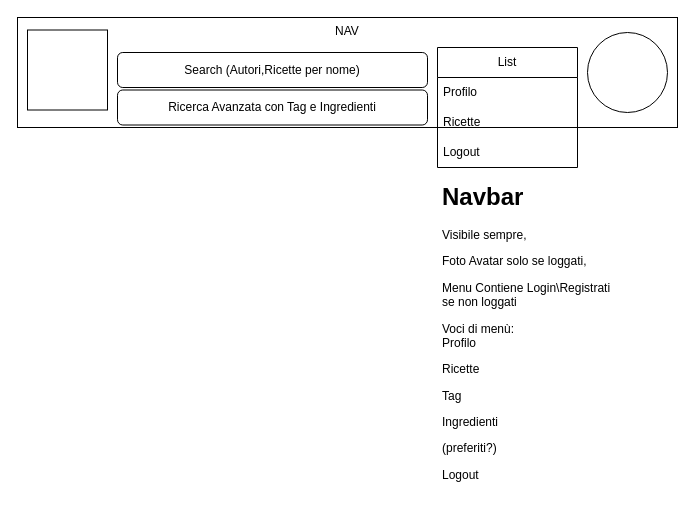
The diagram is 695 pixels wide and 505 high, and some of its shapes have lost their labels. Here are the shapes that lost their labels. From the top down, the centre of each, then its label:
At point (67, 69): "LOGO".
At point (627, 72): "Foto\Avatar".
